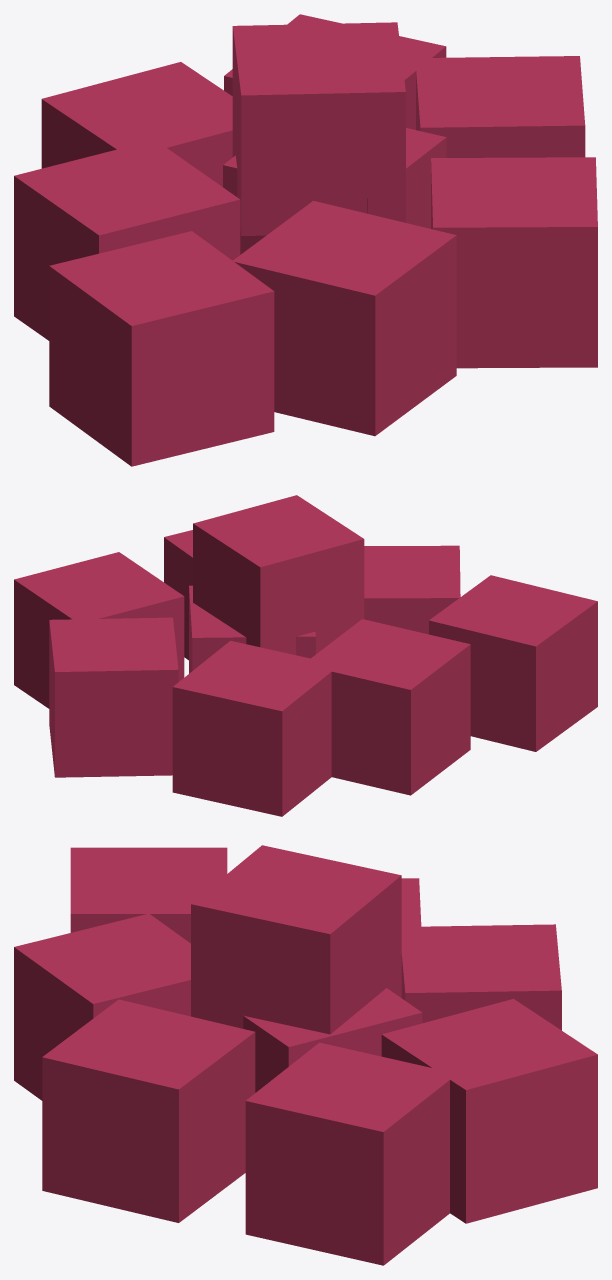
Rendered from FTF_Ingredient_Chopped_Beet.glb.
3 views of the same model, one above another, from view 1: azimuth 30°, elevation 25°; view 2: azimuth 150°, elevation 25°; view 3: azimuth 270°, elevation 25° (orthographic). The views are drawn at different scales.
Parts seen in each view (by area): view 1: Beet_Piece_00; view 2: Beet_Piece_00; view 3: Beet_Piece_00.
Boxes of the visible parts, x1,y1,x2,y2 form: Beet_Piece_00: [14, 14, 597, 466]; Beet_Piece_00: [14, 495, 597, 816]; Beet_Piece_00: [14, 845, 597, 1265].
Size of the model in its own units: 0.7301 by 0.28 by 0.6337.
